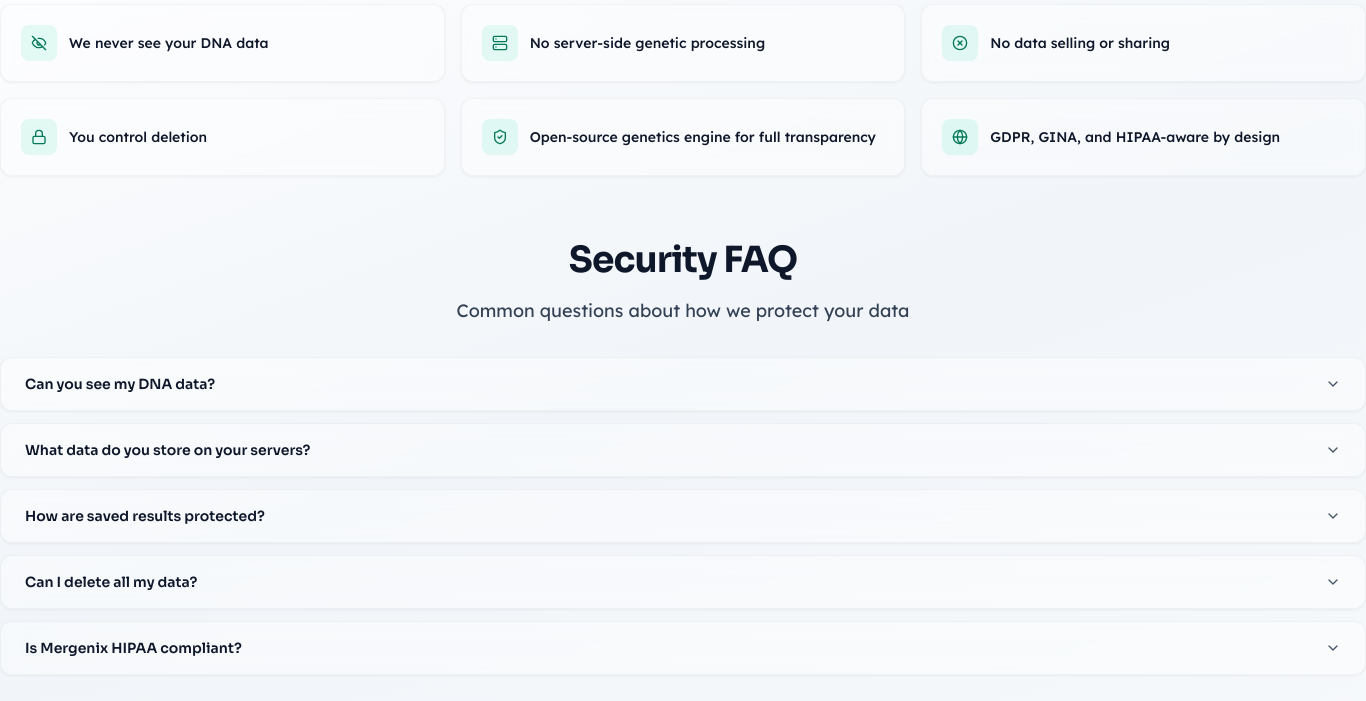
Test: SecurityPage › renders FAQ section with expandable answer on click
The width and height of the screenshot is (1366, 701).
(page scrolled)
Expected: the text "Can you see my DNA data?" is shown, [25,374,231,394]
Expected: the text "processing happens in your browser" is not shown
# Expand FAQ item
Click the button "Can you see my DNA data?": [120, 384] box [1,358,1365,410]
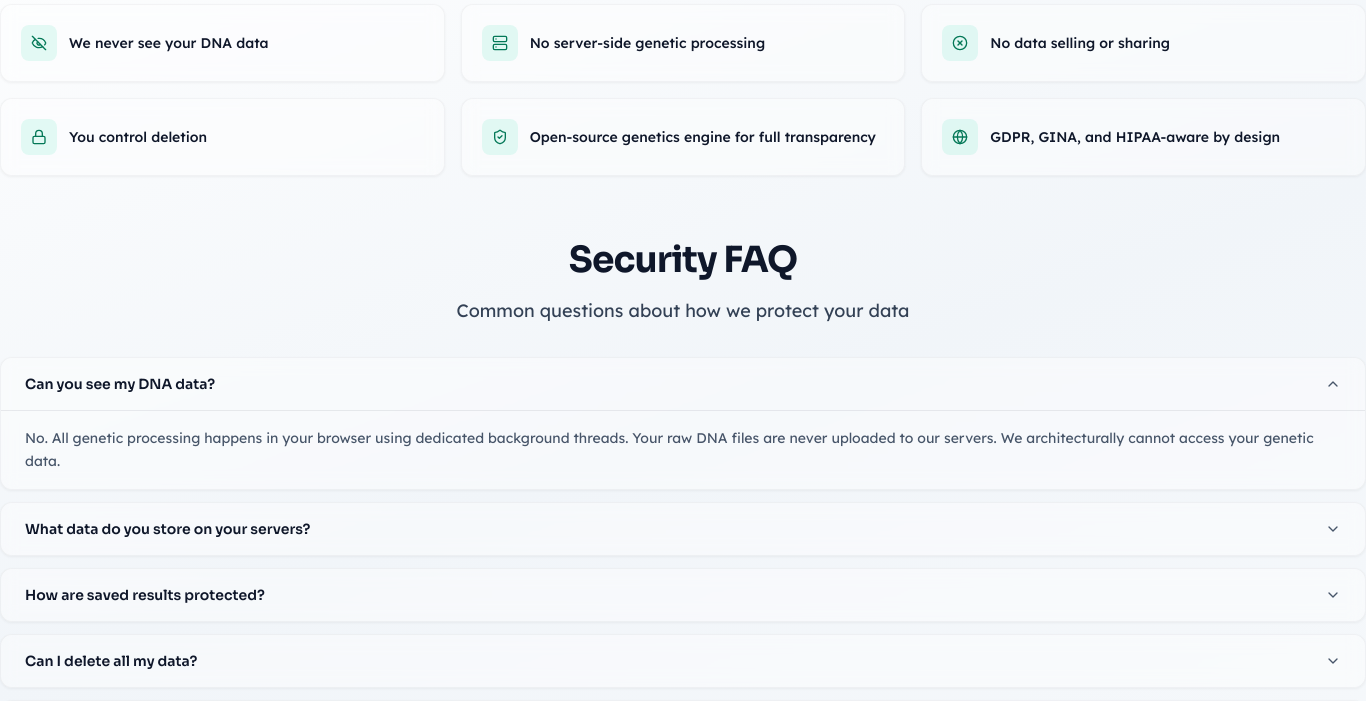
Result: the text "processing happens in your browser" is shown at [25,429,1314,470]
